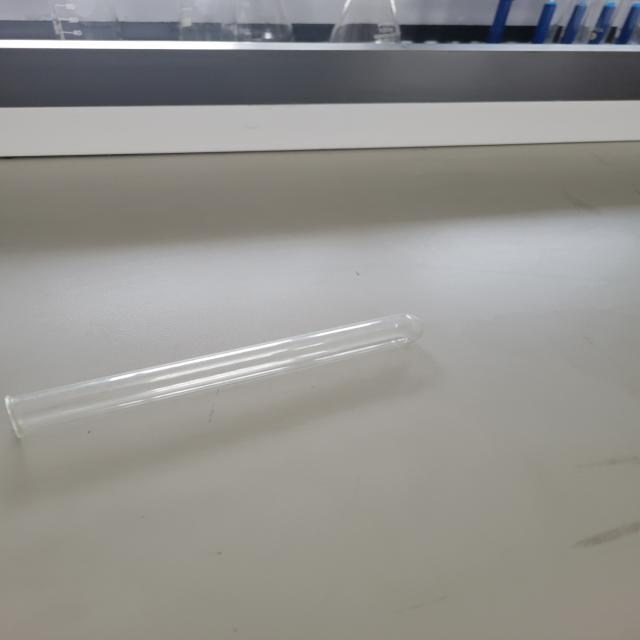Test_Tube: (0, 302, 455, 486)
